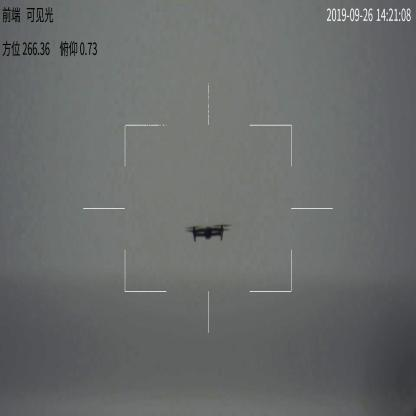uav: (183, 221, 232, 243)
